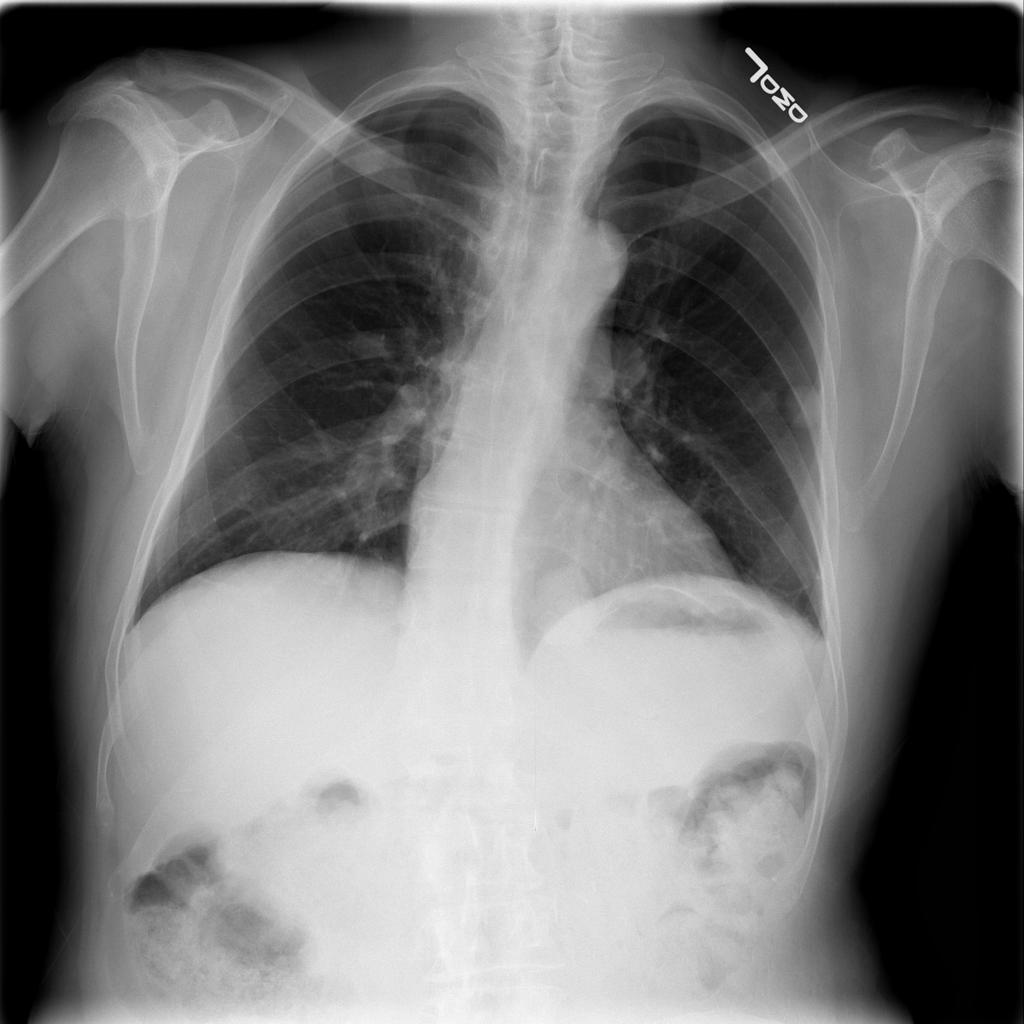nodule: (521, 544, 615, 661), (767, 366, 836, 445)
